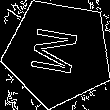M_E: (29, 25, 87, 80)
